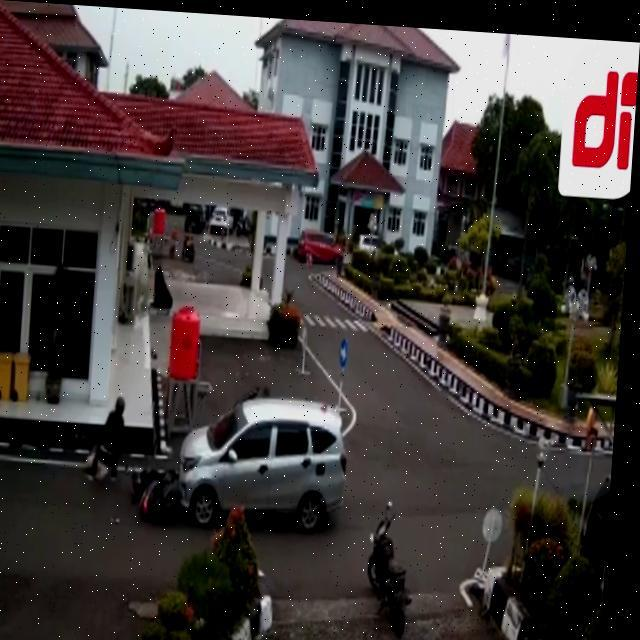multiple_accident: (117, 352, 346, 551)
